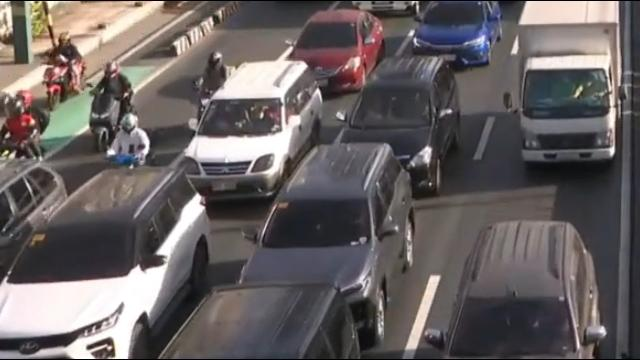car: (0, 168, 210, 360), (235, 143, 419, 347), (425, 220, 604, 360), (181, 60, 322, 201), (332, 57, 460, 194), (286, 10, 385, 97), (407, 0, 507, 67)
motorcycle: (0, 91, 49, 177), (90, 59, 135, 149), (191, 50, 239, 124), (43, 32, 86, 110), (106, 115, 153, 182)
truck: (500, 0, 629, 167)
